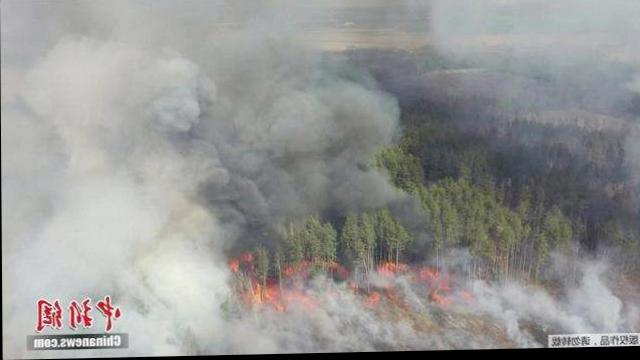fire: (231, 251, 475, 333)
